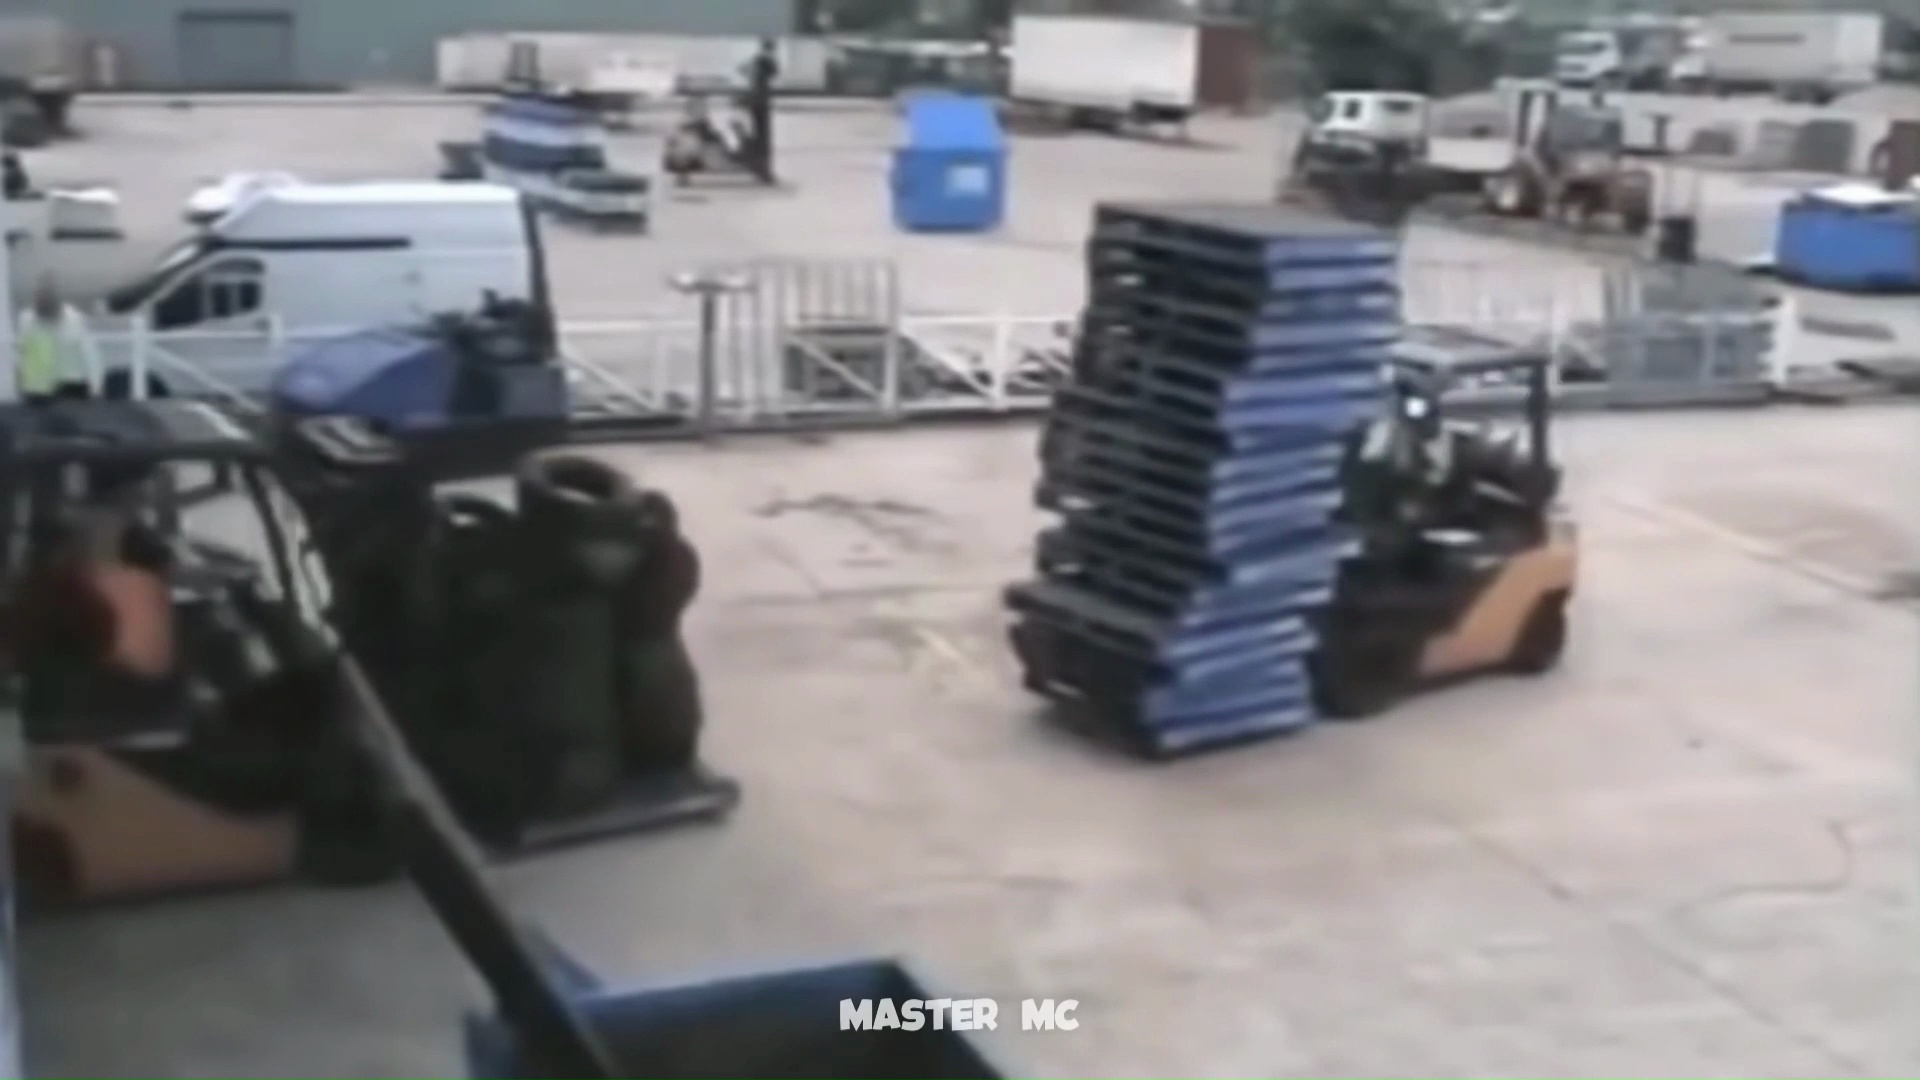forklift: (3, 396, 723, 882), (1004, 195, 1586, 760)
